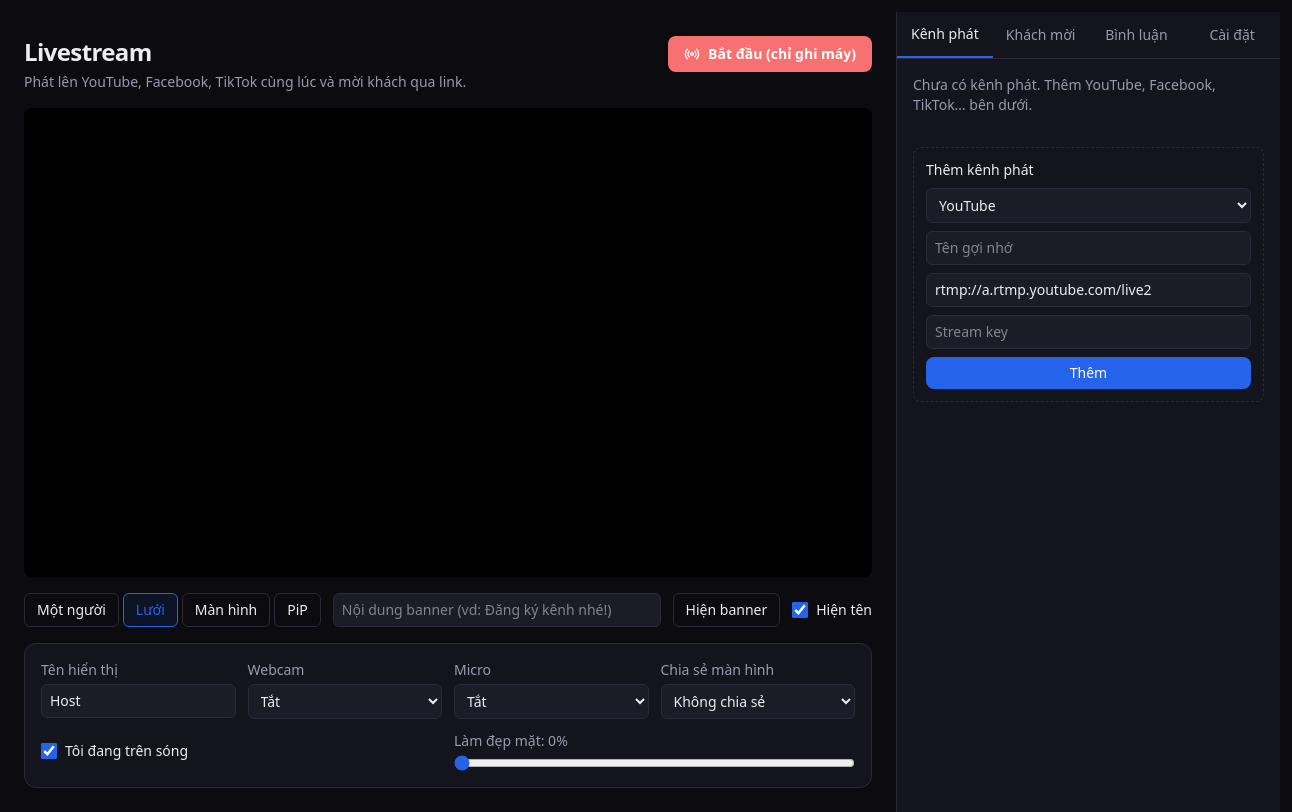
Scenario: LivePage › thêm kênh YouTube kèm stream key (key lưu riêng, không nằm trong cấu hình)
In the field with test id "dest-name": [1088, 248] box [926,231,1251,265], type "Kênh chính"
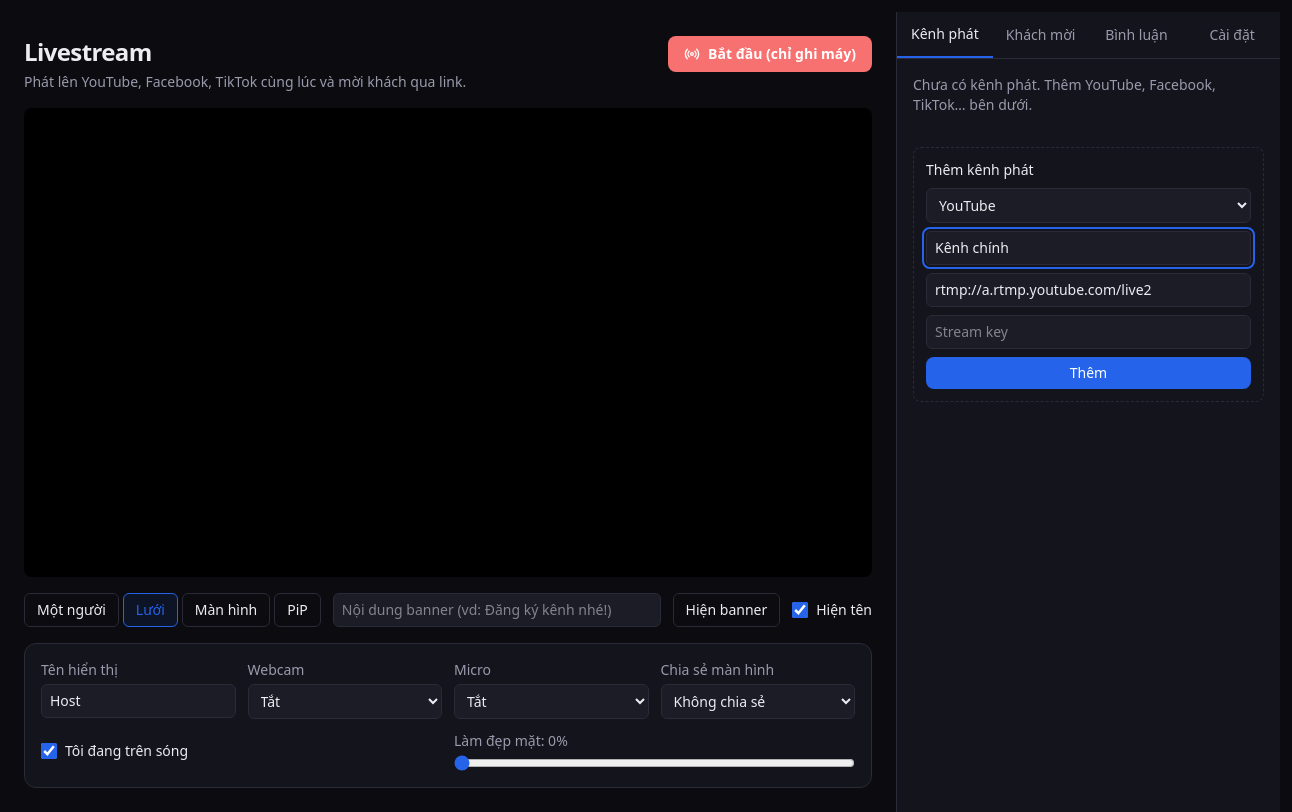
In the password field with test id "dest-key": [1088, 332] box [926,315,1251,349], type "abcd-efgh"
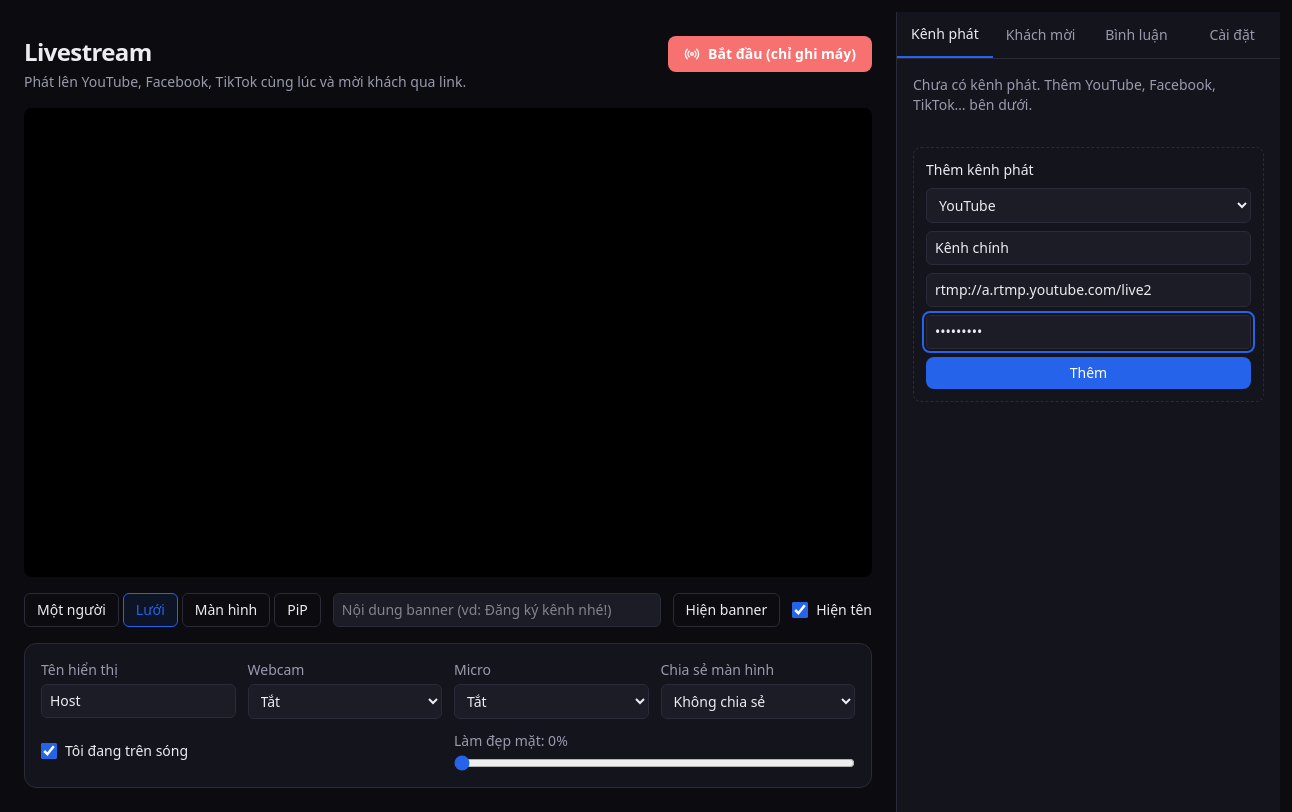
Click the button with test id "dest-add": [1088, 373] box [926,357,1251,389]
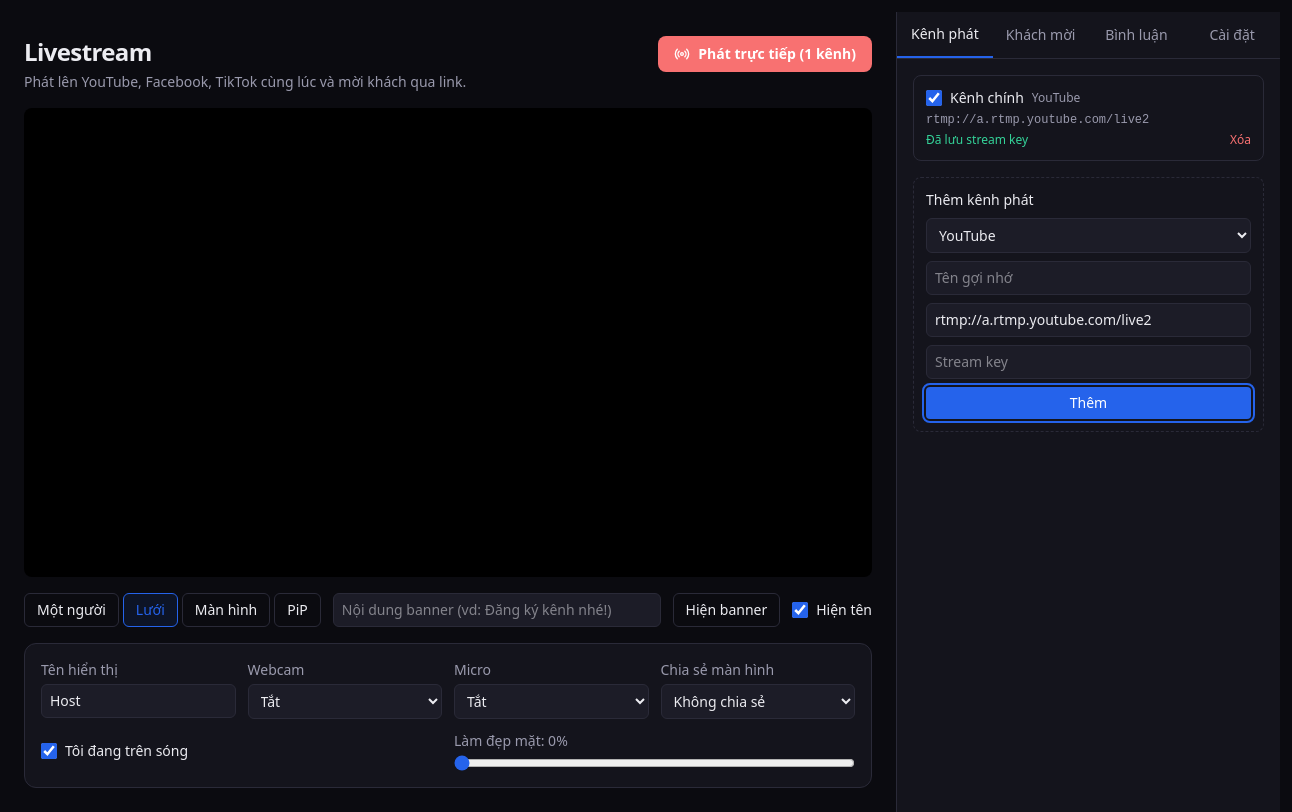
Expected: the list item with test id "destination" shows "Kênh chính", [950,88,1024,107]
Expected: the list item with test id "destination" shows "rtmp://a.rtmp.youtube.com/live2", [926,113,1149,127]
Expected: the list item with test id "destination" shows "Đã lưu stream key", [926,131,1028,148]
